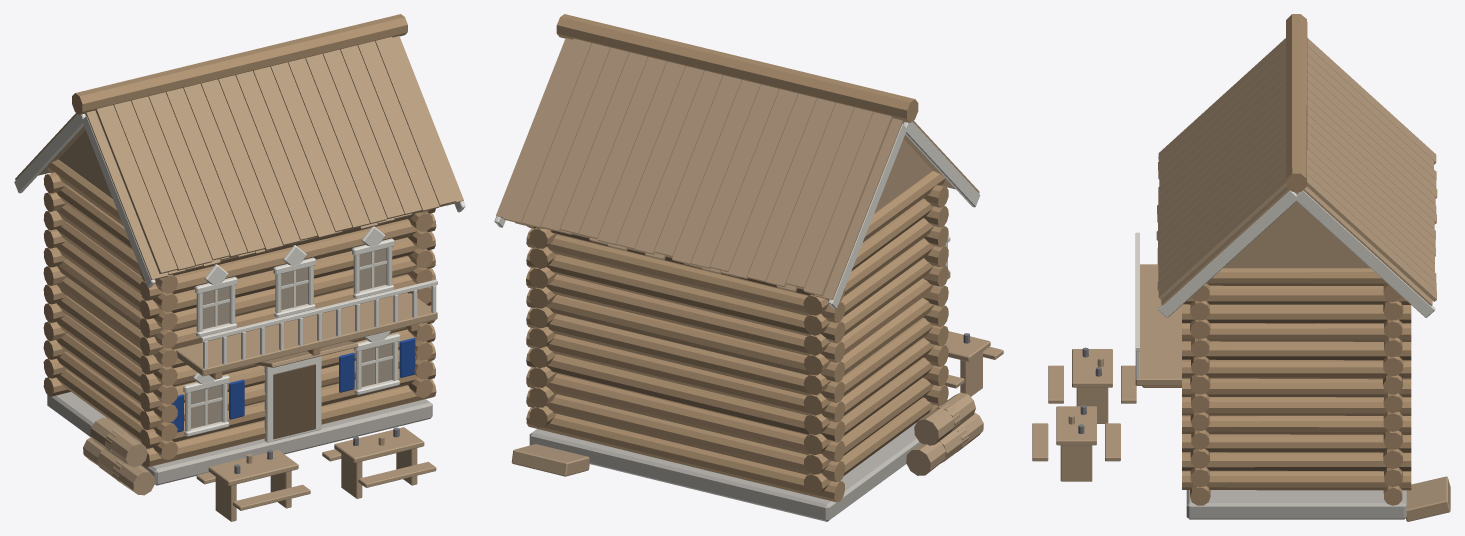
The model's file is bld_traktir_e1.glb.
3 views of the same model, side by side, from view 1: azimuth 30°, elevation 25°; view 2: azimuth 150°, elevation 25°; view 3: azimuth 270°, elevation 25° (orthographic). The views are drawn at different scales.
Parts seen in each view (by area): view 1: traktir; view 2: traktir; view 3: traktir.
Boxes of the visible parts, left/top/right/bottom form: traktir: left=14, top=14, right=465, bottom=521; traktir: left=494, top=14, right=1003, bottom=521; traktir: left=1032, top=14, right=1450, bottom=521.
Bounding box in the file's own units: 1.69 × 1.77 × 1.84.
